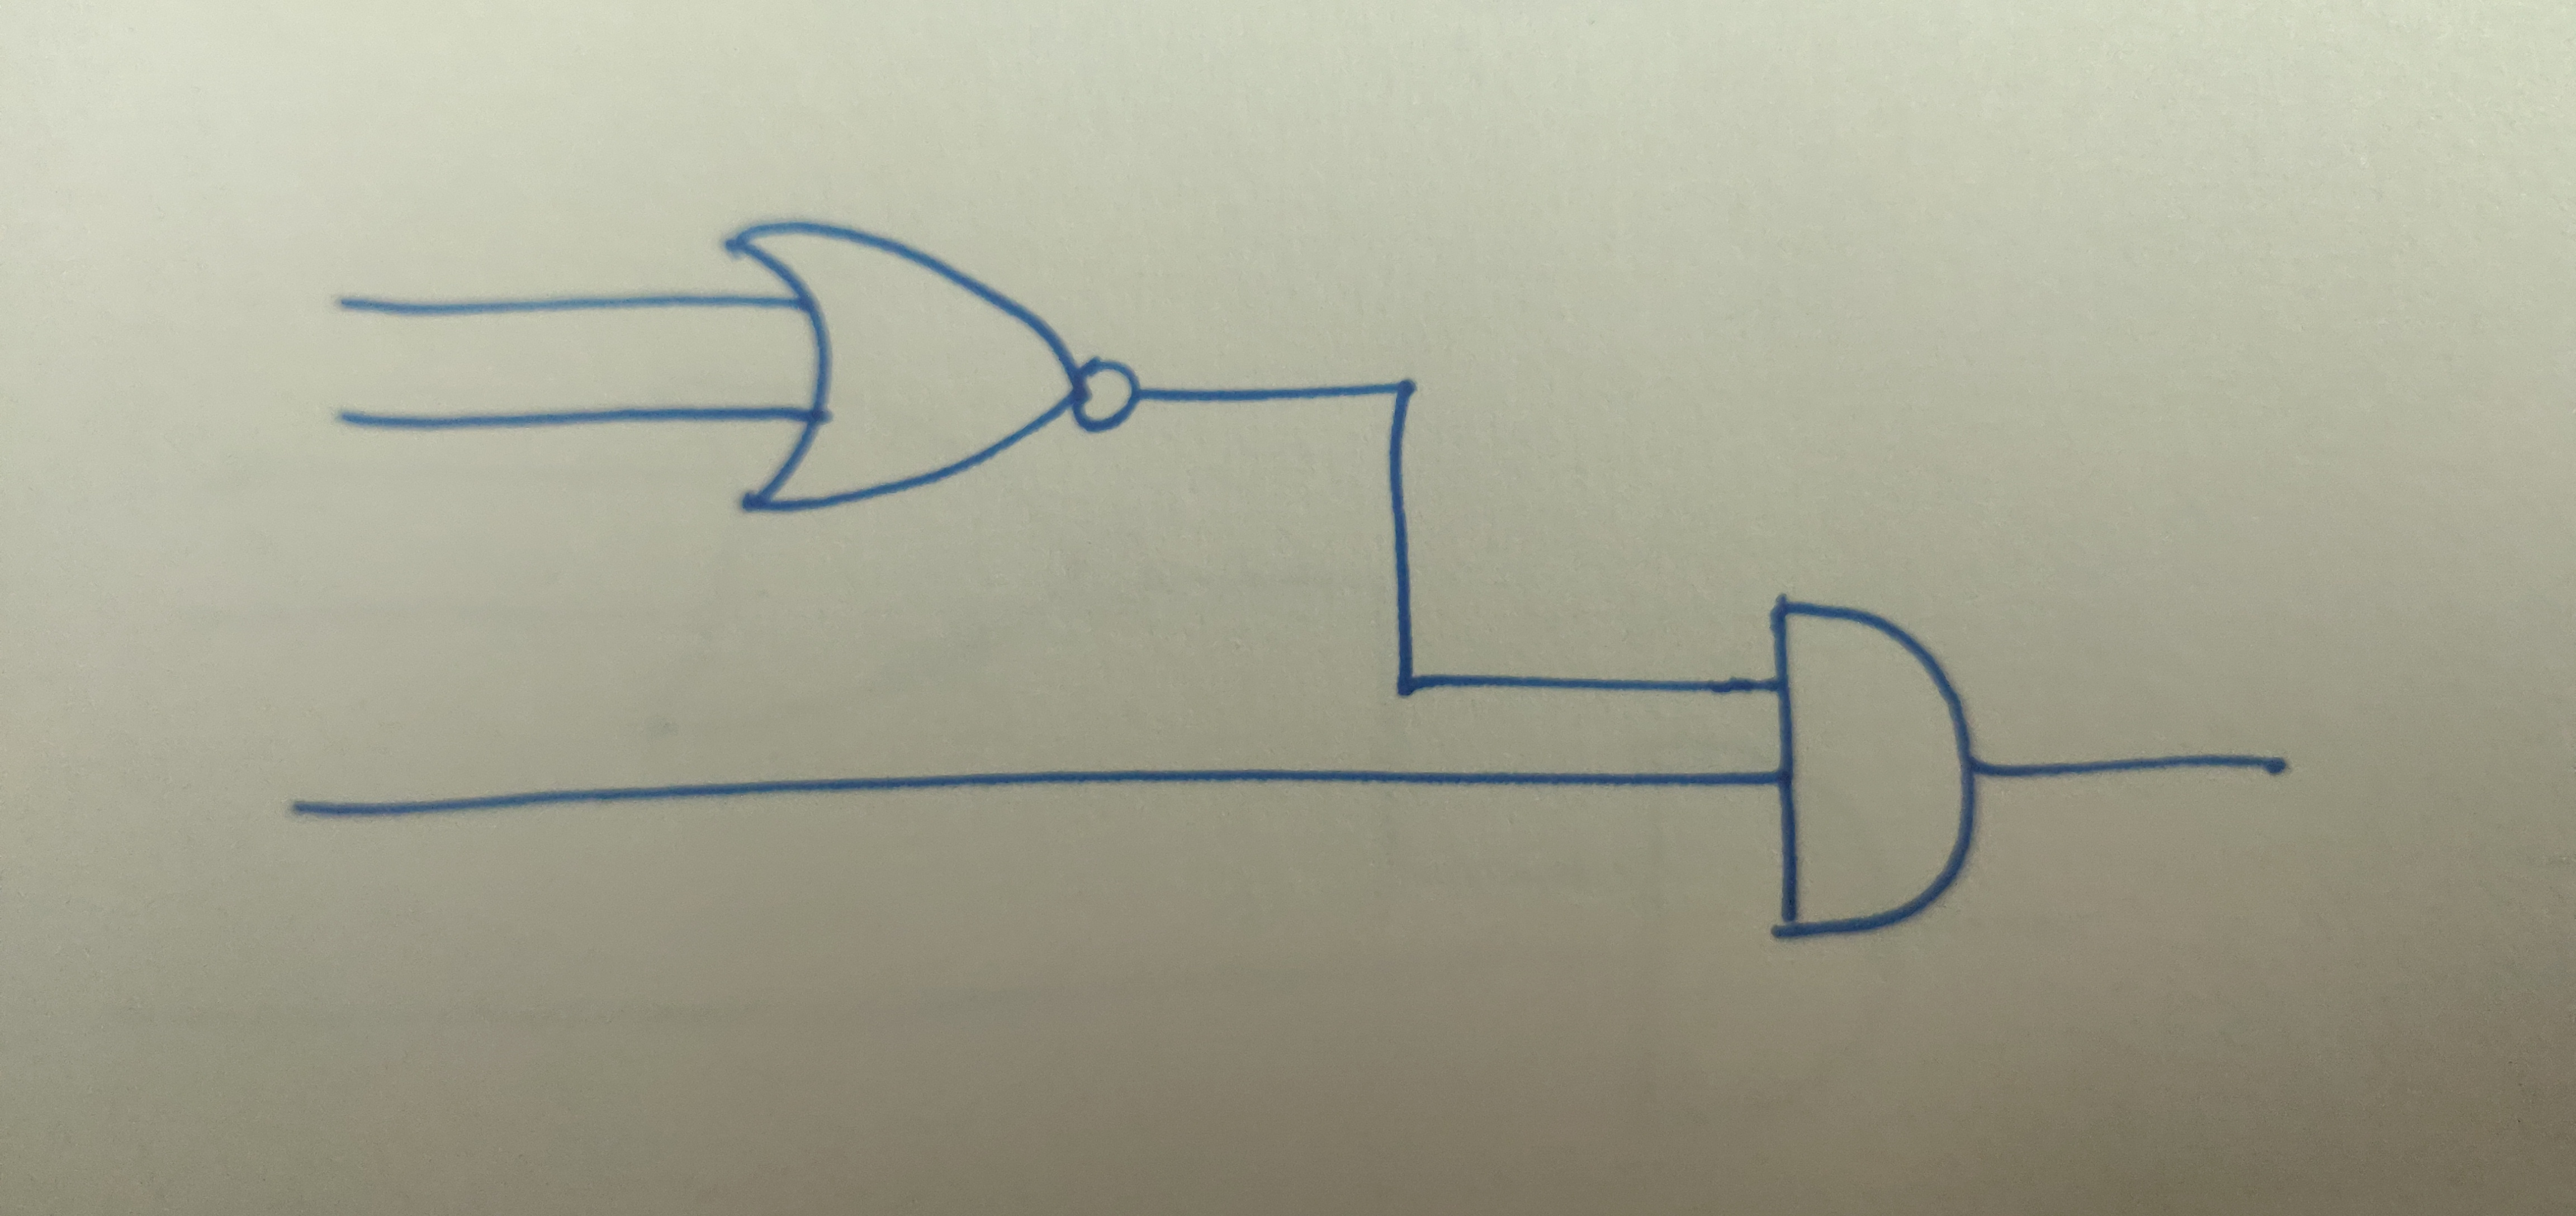and: (1764, 595, 1991, 943)
not: (1071, 355, 1143, 437)
or: (723, 220, 1078, 519)
